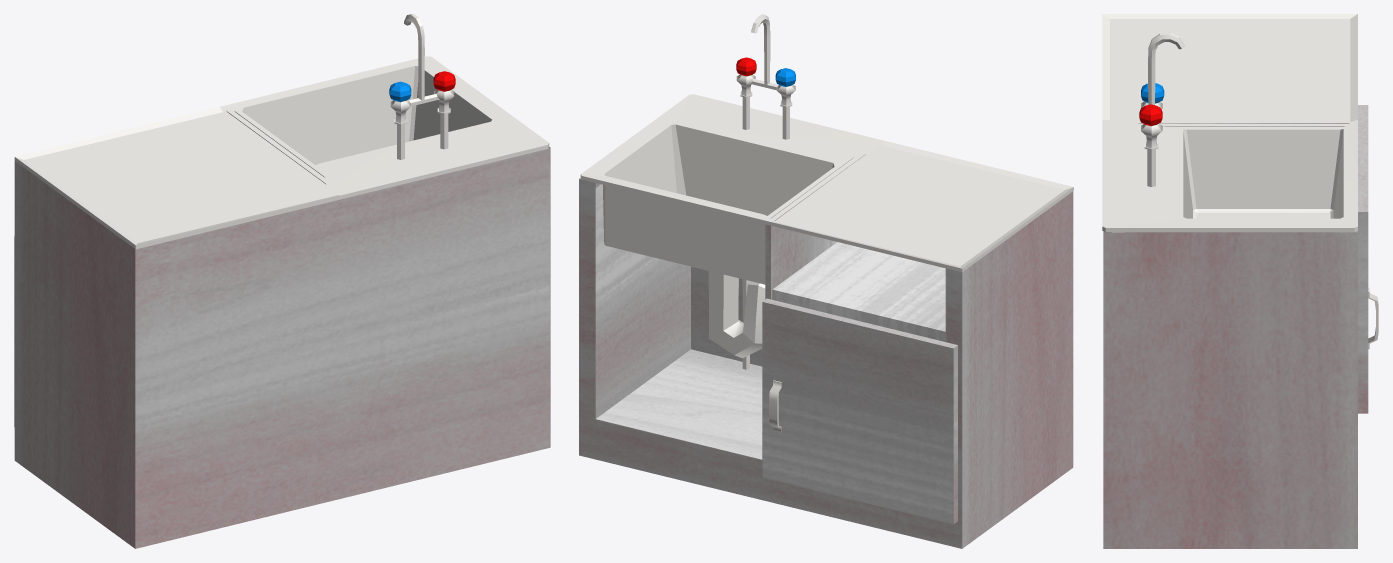
The model's file is kitchen sink.fbx.
3 views of the same model, side by side, from view 1: azimuth 30°, elevation 25°; view 2: azimuth 150°, elevation 25°; view 3: azimuth 270°, elevation 25° (orthographic). The views are drawn at different scales.
Visible parts, largest first — view 1: sink; view 2: sink; view 3: sink.
Part boxes in pixels (x1,y1,x2,y2): sink: (14,14,550,548); sink: (579,14,1073,548); sink: (1102,14,1378,548).
Size of the model in its own units: 2.21 by 2.22 by 1.21.
